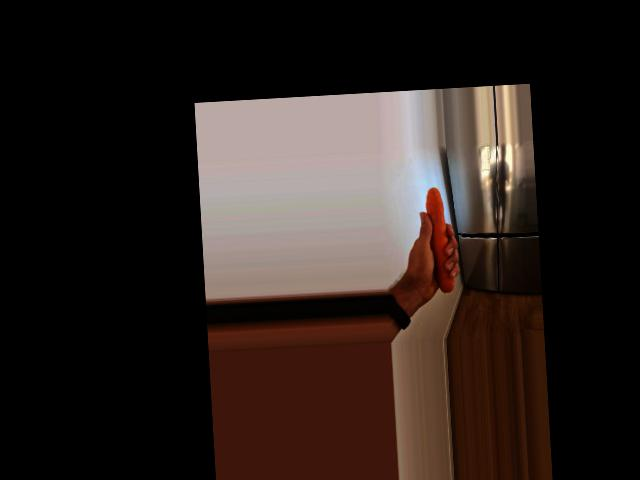carrot: (425, 187, 453, 295)
